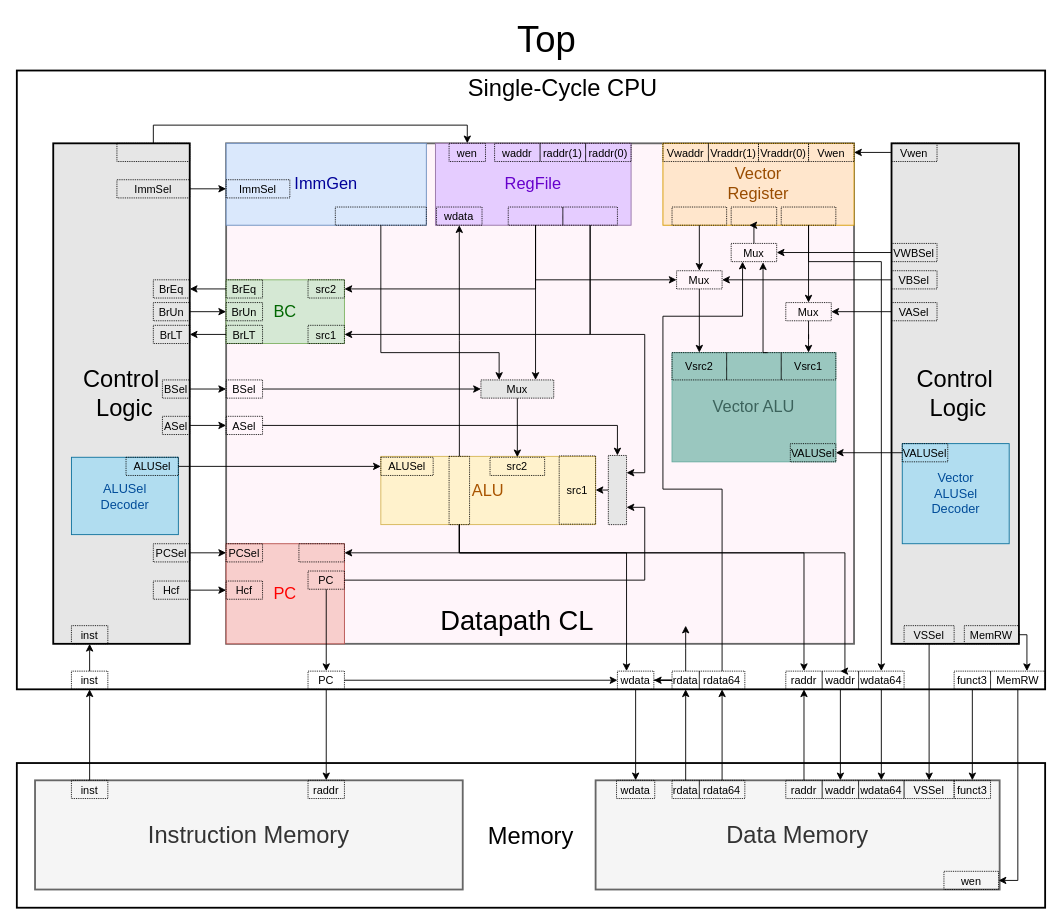
The diagram is 1061 pixels wide and 924 high, and some of its shapes have lost their labels. Each missing label, with the centre of its shape:
"alu_out" goes at (321,552).
"Imm" goes at (380,215).
"M u x" goes at (617,490).
"out" goes at (459,490).
"rdata(0)" goes at (589,215).
"rdata(1)" goes at (535,215).
"RegWEn" goes at (153,152).
"Vout" goes at (753,366).
"Vrdata(0)" goes at (808,215).
"Vrdata(1)" goes at (699,215).
"Vwdata" goes at (753,215).
